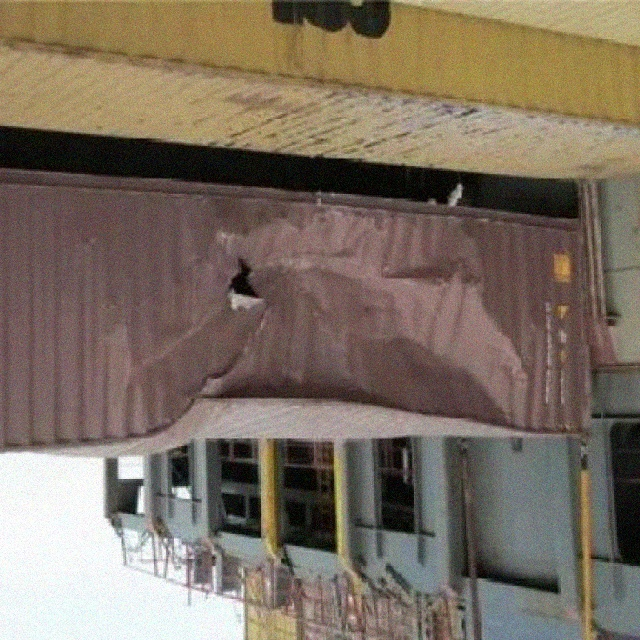Dent: (308, 217, 551, 333)
Hole: (222, 257, 268, 314)
